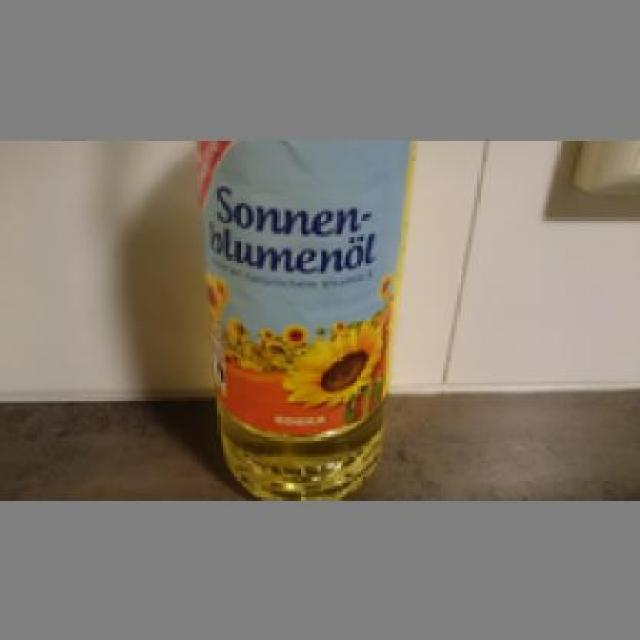Oil: (194, 137, 417, 500)
